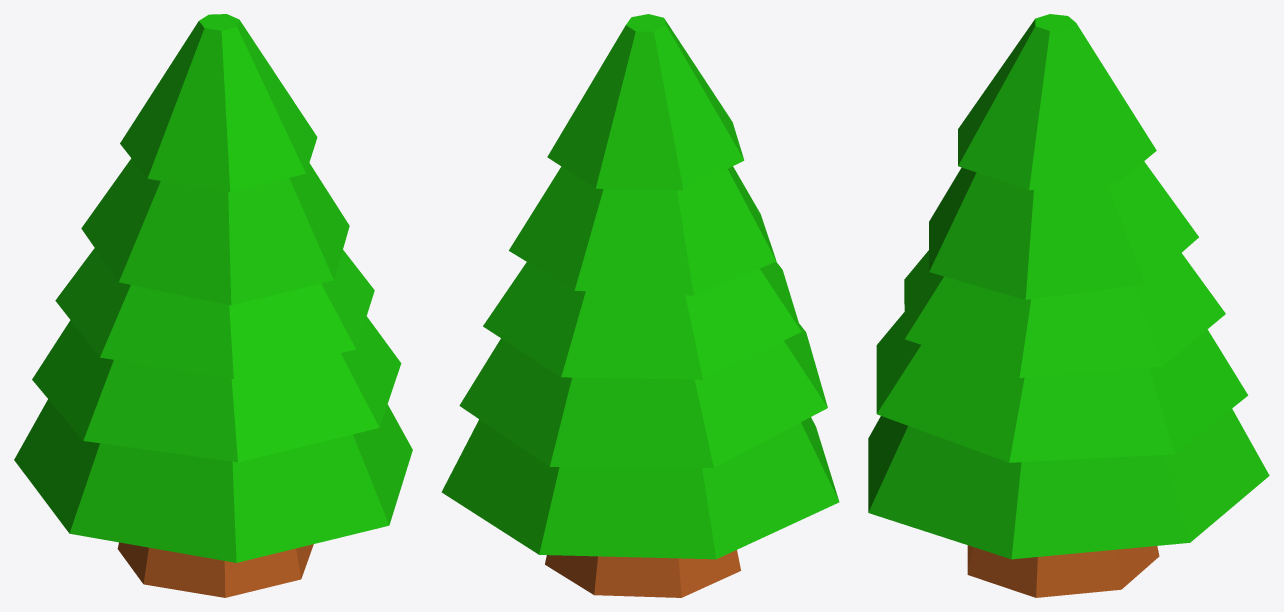
File: ctree1C(F68).obj
3 views of the same model, side by side, from view 1: azimuth 30°, elevation 25°; view 2: azimuth 150°, elevation 25°; view 3: azimuth 270°, elevation 25° (orthographic).
Parts seen in each view (by area): view 1: Cylinder.158, Cylinder.157, Cylinder.155, Cylinder.156, Cylinder.154, Cylinder.159; view 2: Cylinder.158, Cylinder.157, Cylinder.156, Cylinder.155, Cylinder.154, Cylinder.159; view 3: Cylinder.158, Cylinder.157, Cylinder.155, Cylinder.156, Cylinder.154, Cylinder.159.
Boxes of the visible parts, x1,y1,x2,y2 form: Cylinder.158: [14, 399, 412, 562]; Cylinder.157: [32, 316, 401, 462]; Cylinder.155: [81, 158, 349, 305]; Cylinder.156: [55, 248, 374, 379]; Cylinder.154: [120, 14, 317, 191]; Cylinder.159: [117, 542, 313, 597]; Cylinder.158: [441, 417, 839, 559]; Cylinder.157: [459, 323, 827, 467]; Cylinder.156: [483, 262, 801, 379]; Cylinder.155: [509, 166, 776, 295]; Cylinder.154: [547, 14, 744, 190]; Cylinder.159: [545, 550, 740, 597]; Cylinder.158: [868, 409, 1269, 559]; Cylinder.157: [876, 312, 1248, 462]; Cylinder.155: [929, 161, 1198, 299]; Cylinder.156: [904, 250, 1225, 377]; Cylinder.154: [958, 14, 1156, 190]; Cylinder.159: [967, 545, 1159, 597].
Bounding box in the file's own units: 1.16 × 1.73 × 1.18.
